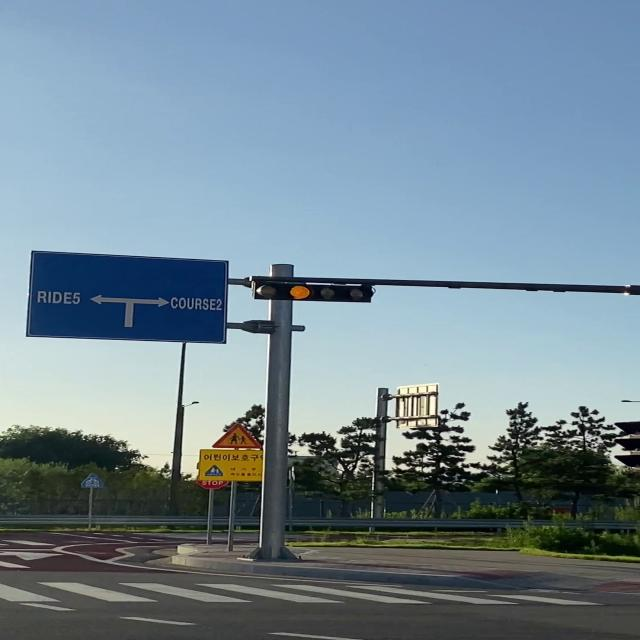yellow_light: (254, 282, 371, 303)
